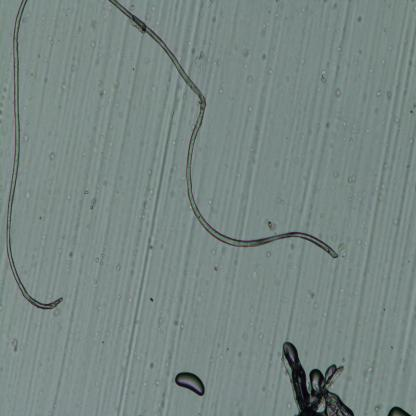Air bubble: (175, 371, 205, 397), (386, 404, 414, 416)
Background material: (399, 142, 414, 216), (192, 50, 208, 74), (130, 245, 140, 275), (138, 200, 150, 218), (159, 390, 167, 414), (318, 69, 328, 85), (267, 352, 274, 373), (374, 402, 384, 416), (266, 217, 275, 232), (157, 315, 164, 334), (334, 64, 341, 82), (244, 43, 252, 58), (89, 196, 97, 210), (146, 239, 156, 250), (53, 306, 62, 318), (159, 300, 168, 312), (348, 174, 358, 184), (97, 88, 108, 97), (112, 78, 121, 89), (12, 338, 18, 354), (127, 344, 135, 356), (22, 132, 30, 144), (144, 10, 152, 22), (23, 189, 32, 199), (365, 365, 374, 375), (138, 407, 147, 416), (146, 166, 154, 176), (207, 354, 215, 364), (376, 192, 384, 202), (337, 243, 347, 251), (352, 125, 359, 136), (91, 20, 98, 31), (268, 47, 276, 56), (386, 88, 392, 100), (276, 198, 285, 206), (308, 290, 316, 299), (144, 186, 153, 194), (203, 0, 212, 8), (169, 164, 176, 174), (251, 270, 258, 280), (301, 24, 307, 35), (48, 35, 54, 46), (336, 87, 342, 98), (262, 21, 270, 29), (324, 121, 332, 129), (391, 217, 399, 225), (49, 151, 56, 160), (197, 9, 204, 18), (257, 331, 264, 340), (274, 278, 280, 288), (222, 246, 228, 256), (190, 46, 196, 56), (68, 249, 75, 257), (148, 361, 156, 368), (362, 226, 369, 234), (246, 75, 253, 83), (289, 243, 296, 251), (382, 161, 389, 169), (210, 16, 218, 23), (334, 204, 341, 212), (342, 117, 348, 126), (170, 107, 175, 117), (261, 385, 268, 392), (322, 309, 326, 321), (376, 90, 382, 98), (311, 303, 319, 309), (180, 323, 186, 331), (154, 377, 160, 385), (171, 138, 177, 146), (116, 264, 122, 272), (182, 91, 188, 99), (384, 142, 390, 150), (18, 343, 24, 351), (118, 111, 124, 119), (334, 171, 340, 179), (286, 402, 292, 410), (242, 332, 248, 340), (143, 56, 149, 64), (142, 380, 147, 389), (172, 320, 179, 326), (299, 58, 305, 65), (261, 54, 267, 61), (40, 14, 46, 21), (410, 109, 416, 116), (380, 182, 385, 190), (374, 106, 379, 114), (408, 58, 413, 66), (357, 15, 362, 23), (61, 82, 66, 90), (171, 190, 176, 198), (2, 86, 7, 94), (1, 94, 6, 102), (219, 352, 224, 360), (217, 60, 222, 68), (357, 238, 362, 246), (130, 4, 135, 12), (214, 262, 218, 271), (50, 317, 56, 323), (403, 38, 409, 44), (300, 6, 306, 12), (335, 29, 341, 35), (134, 320, 140, 326), (250, 306, 256, 312), (98, 52, 104, 58), (364, 316, 368, 325), (209, 196, 213, 205), (116, 294, 121, 301), (268, 68, 273, 75), (95, 256, 100, 263), (395, 126, 402, 131), (46, 409, 51, 416), (395, 118, 400, 125), (317, 234, 324, 239), (53, 402, 57, 410), (399, 358, 403, 366), (97, 304, 101, 312), (94, 280, 98, 288), (22, 16, 26, 24), (298, 204, 302, 212), (332, 1, 336, 9), (236, 411, 242, 416), (165, 363, 171, 368), (102, 180, 107, 186), (115, 102, 120, 108), (94, 148, 99, 154), (38, 216, 44, 221), (340, 301, 345, 307), (398, 318, 403, 324), (99, 133, 104, 139), (341, 357, 346, 363), (208, 38, 213, 44), (267, 251, 272, 257), (358, 49, 364, 54), (274, 12, 279, 18), (338, 46, 342, 53), (388, 44, 392, 51), (390, 344, 394, 351), (85, 189, 89, 196), (244, 63, 248, 70), (410, 47, 414, 54), (0, 101, 4, 108), (249, 320, 253, 327), (284, 154, 288, 161), (384, 27, 388, 34), (197, 411, 202, 416), (287, 254, 292, 259), (222, 82, 227, 87), (229, 94, 233, 100), (48, 293, 52, 299), (237, 173, 241, 179), (326, 62, 330, 68), (368, 68, 372, 74), (220, 88, 224, 94), (340, 288, 344, 294), (184, 270, 188, 276), (170, 225, 174, 231), (73, 286, 77, 292), (92, 42, 96, 48), (382, 59, 386, 65), (128, 296, 132, 302), (382, 307, 386, 313), (106, 330, 110, 336), (36, 52, 40, 58), (72, 64, 75, 72), (26, 119, 30, 125), (94, 330, 98, 336), (95, 380, 98, 388), (331, 143, 335, 149), (320, 213, 324, 219), (136, 355, 140, 360), (101, 252, 105, 257), (109, 155, 113, 160), (150, 297, 154, 302), (365, 128, 370, 132), (71, 333, 75, 338), (410, 139, 414, 144), (412, 395, 416, 400), (41, 235, 46, 239), (152, 87, 156, 92), (362, 191, 366, 196), (357, 320, 362, 324), (250, 149, 254, 154), (83, 151, 86, 157), (322, 0, 328, 3), (211, 249, 214, 255), (346, 58, 349, 64), (355, 290, 358, 296), (235, 260, 238, 266), (366, 376, 369, 382), (100, 262, 104, 266), (67, 260, 71, 264), (358, 198, 362, 202), (156, 22, 160, 26), (375, 187, 379, 191), (63, 235, 66, 240), (413, 103, 416, 108), (363, 220, 366, 225), (49, 178, 52, 183), (258, 6, 261, 11), (239, 353, 242, 358), (189, 41, 192, 46), (60, 249, 62, 255), (268, 10, 271, 14), (68, 196, 71, 200), (344, 137, 347, 141), (88, 223, 90, 229), (66, 268, 69, 272), (154, 6, 156, 12), (227, 346, 230, 350), (296, 160, 299, 164), (46, 78, 48, 84), (353, 193, 356, 197), (350, 137, 352, 143), (350, 197, 352, 202), (285, 17, 288, 20), (276, 0, 279, 3), (400, 349, 402, 353), (116, 191, 118, 193)
Cellulose filter fibre: (272, 339, 355, 416)
Microfibre: (111, 0, 339, 262), (0, 0, 65, 314)
